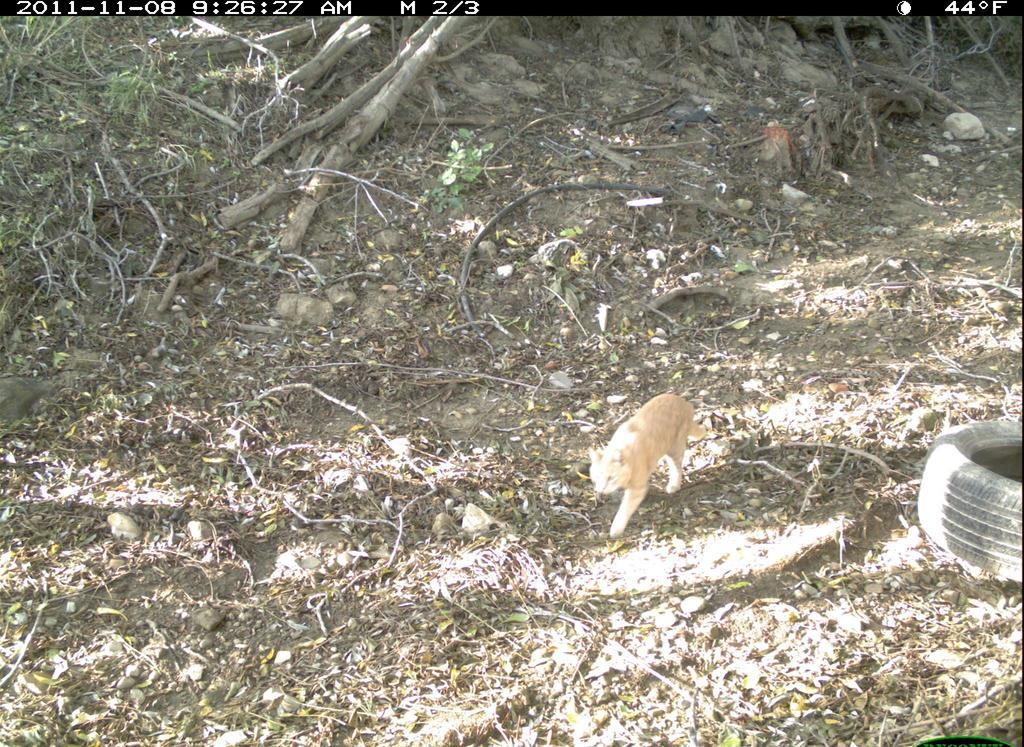cat: (584, 385, 722, 550)
